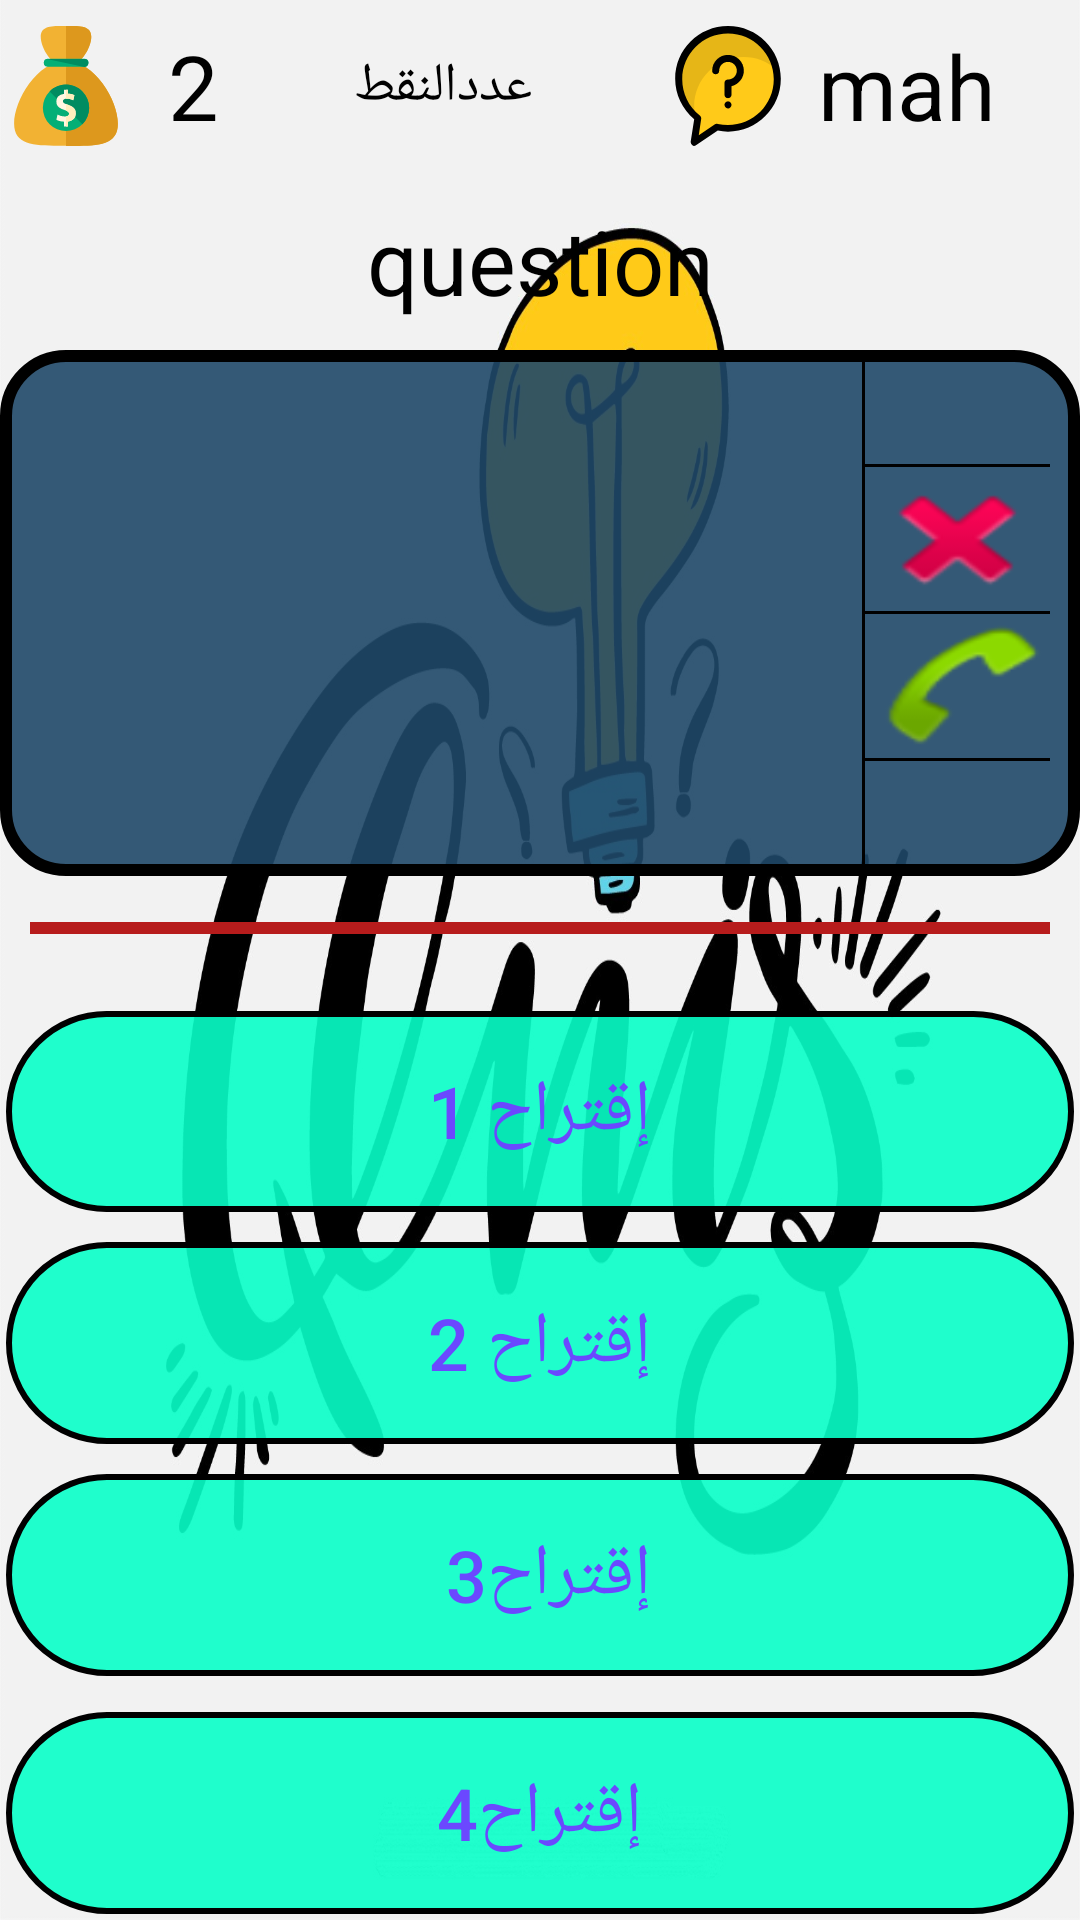

Icon bounding boxes for this 1080x1920 phone screenshot, format (x1, y1, x2, y2):
delete: (899, 496, 1016, 584)
sym action call: (889, 628, 1036, 742)
